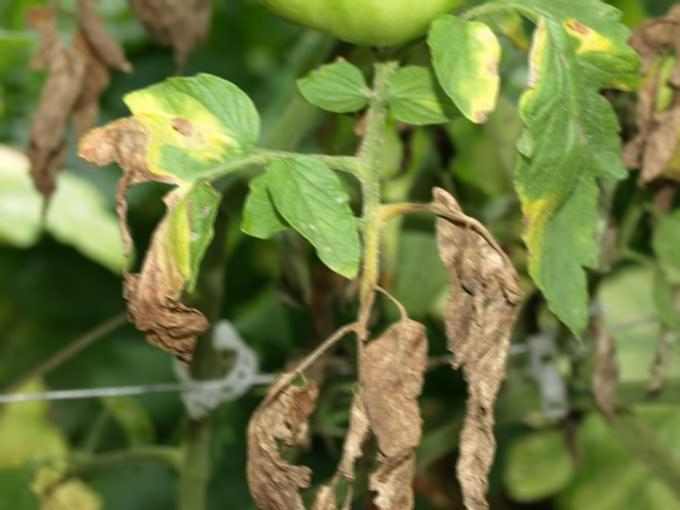Tomato Early blight leaf: (519, 20, 650, 349), (74, 58, 262, 184), (256, 159, 369, 280), (422, 4, 512, 135)
